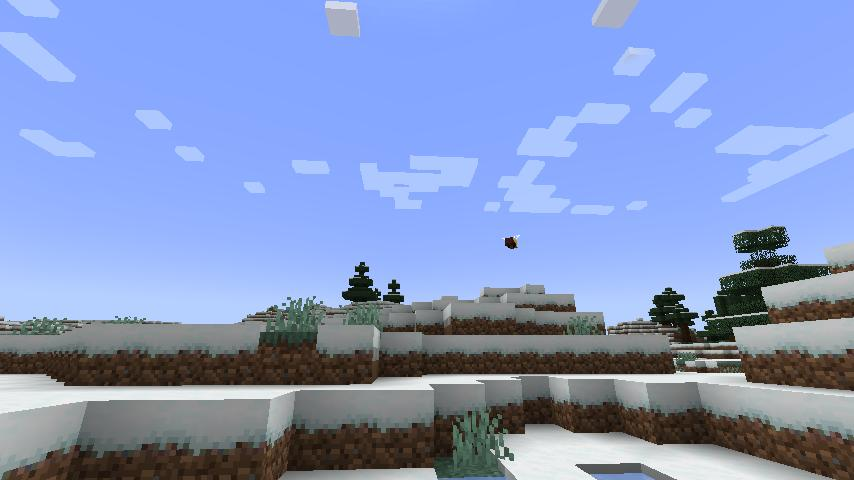bee: (502, 232, 520, 252)
